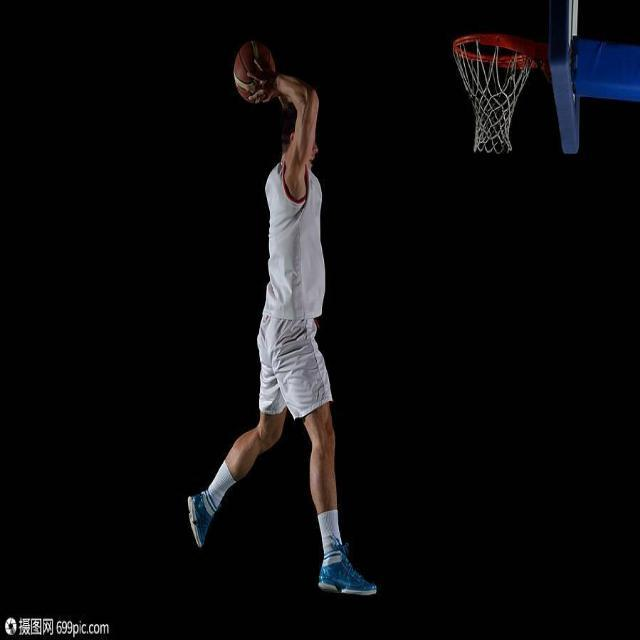rim: (234, 40, 276, 106)
